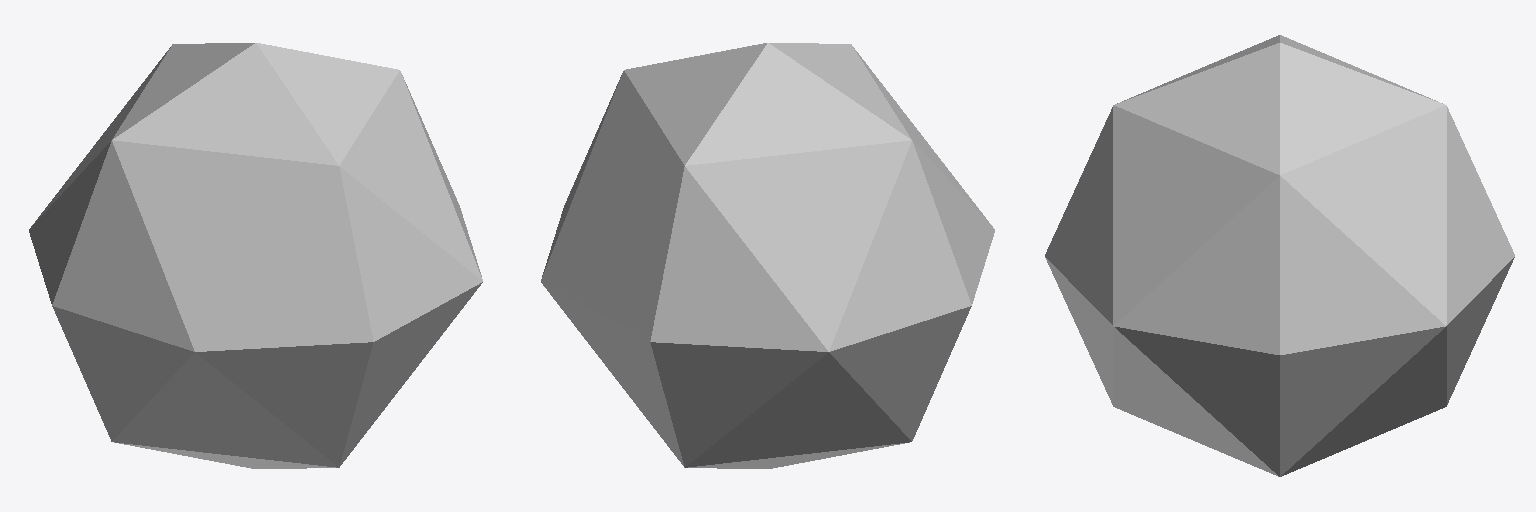
File: GeoSphere32.obj
3 views of the same model, side by side, from view 1: azimuth 30°, elevation 25°; view 2: azimuth 150°, elevation 25°; view 3: azimuth 270°, elevation 25° (orthographic).
Visible parts, largest first — view 1: GD_mesh.014; view 2: GD_mesh.014; view 3: GD_mesh.014.
Part boxes in pixels (left/top/right/bottom): GD_mesh.014: left=29, top=43, right=482, bottom=468; GD_mesh.014: left=541, top=43, right=994, bottom=468; GD_mesh.014: left=1045, top=35, right=1514, bottom=476.
Size of the model in its own units: 2 by 2 by 2.